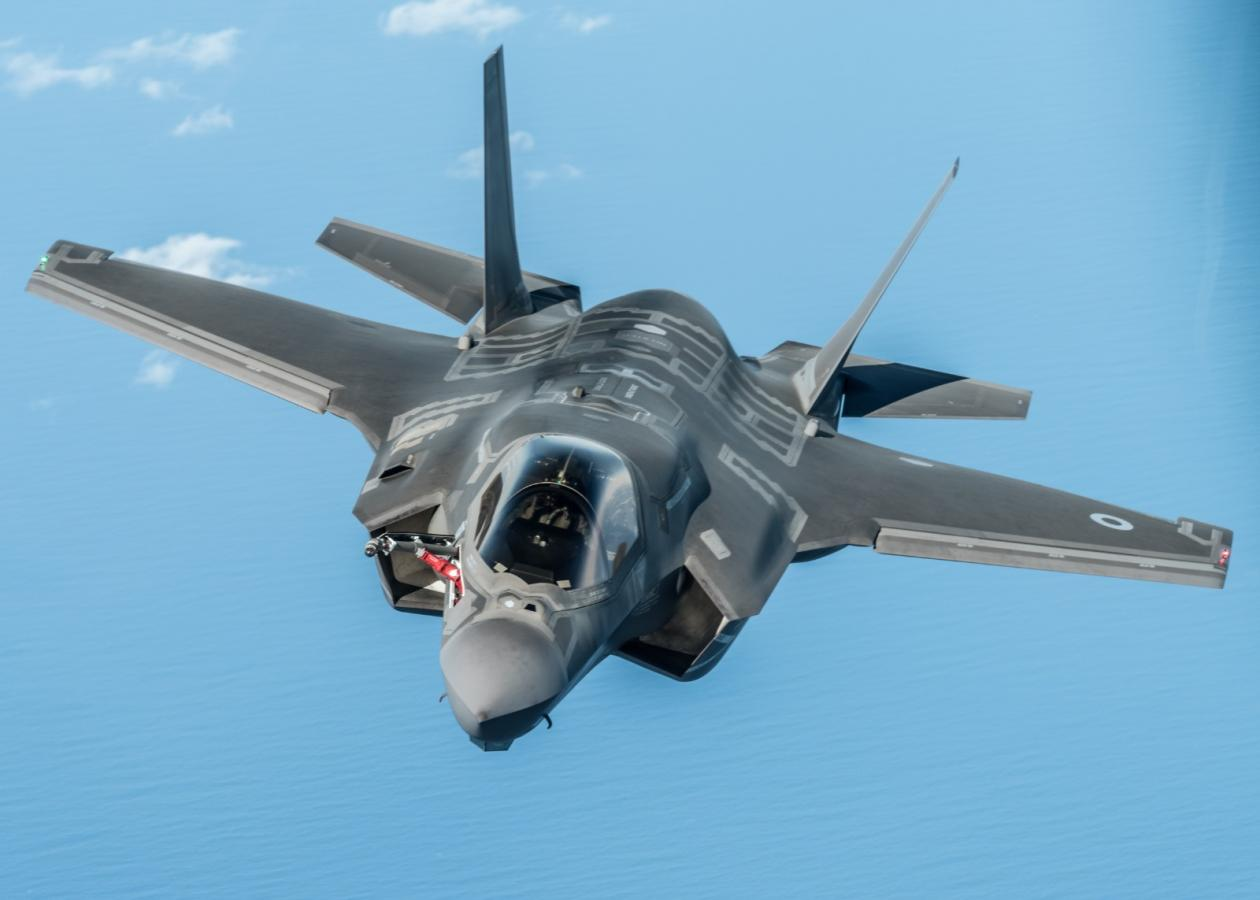F-35 Lightning: (32, 41, 1242, 785)
